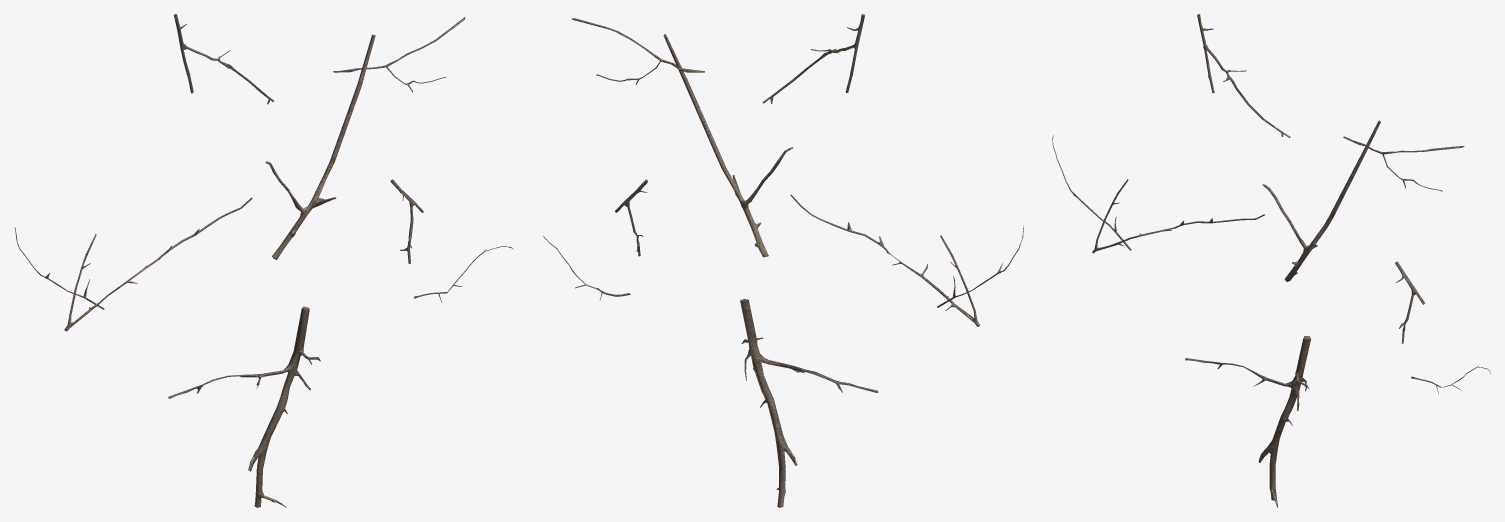
File: hd_dec_UNI_011_DebirsBranch_03.glb
The picture shows the model from 3 angles, left to right: view 1: azimuth 30°, elevation 25°; view 2: azimuth 150°, elevation 25°; view 3: azimuth 330°, elevation 25°; orthographic projection. The views are drawn at different scales.
Parts seen in each view (by area): view 1: set_0_group_0; view 2: set_0_group_0; view 3: set_0_group_0.
Part boxes in pixels (x1=…): set_0_group_0: x1=14, y1=14, x2=513, y2=507; set_0_group_0: x1=543, y1=14, x2=1023, y2=507; set_0_group_0: x1=1052, y1=14, x2=1490, y2=507.
Bounding box in the file's own units: 6.07 × 6.06 × 0.498.
1 material, 1 textured.
